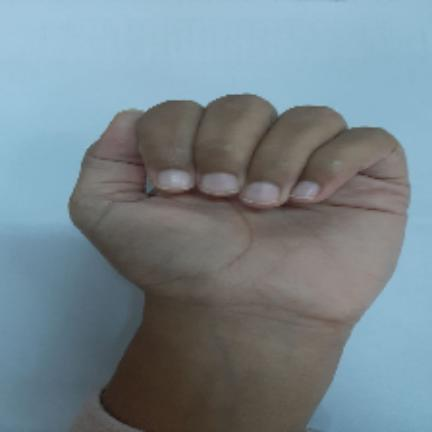Nail: (240, 181, 280, 207), (198, 172, 240, 196), (158, 169, 195, 192), (290, 181, 320, 200)
